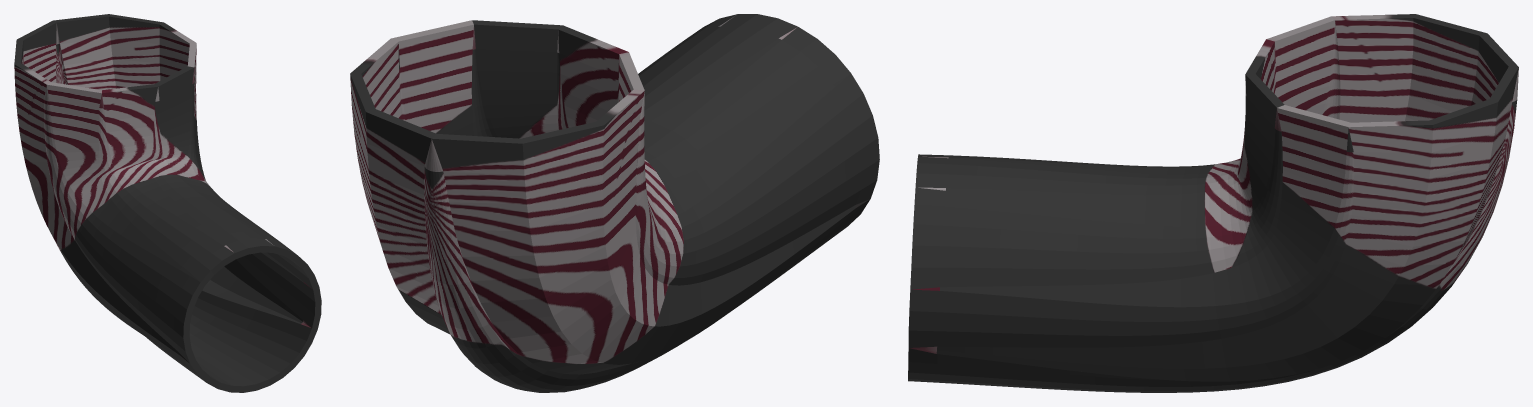
The model's file is ConnectingPiece3.fbx.
The picture shows the model from 3 angles, left to right: view 1: azimuth 30°, elevation 25°; view 2: azimuth 150°, elevation 25°; view 3: azimuth 270°, elevation 25°; orthographic projection. The views are drawn at different scales.
Parts seen in each view (by area): view 1: first section .001; view 2: first section .001; view 3: first section .001.
Part boxes in pixels (x1,y1,x2,y2): first section .001: (14,14,321,392); first section .001: (350,14,879,392); first section .001: (908,14,1518,392).
Bounding box in the file's own units: 654 × 1472 × 862.
